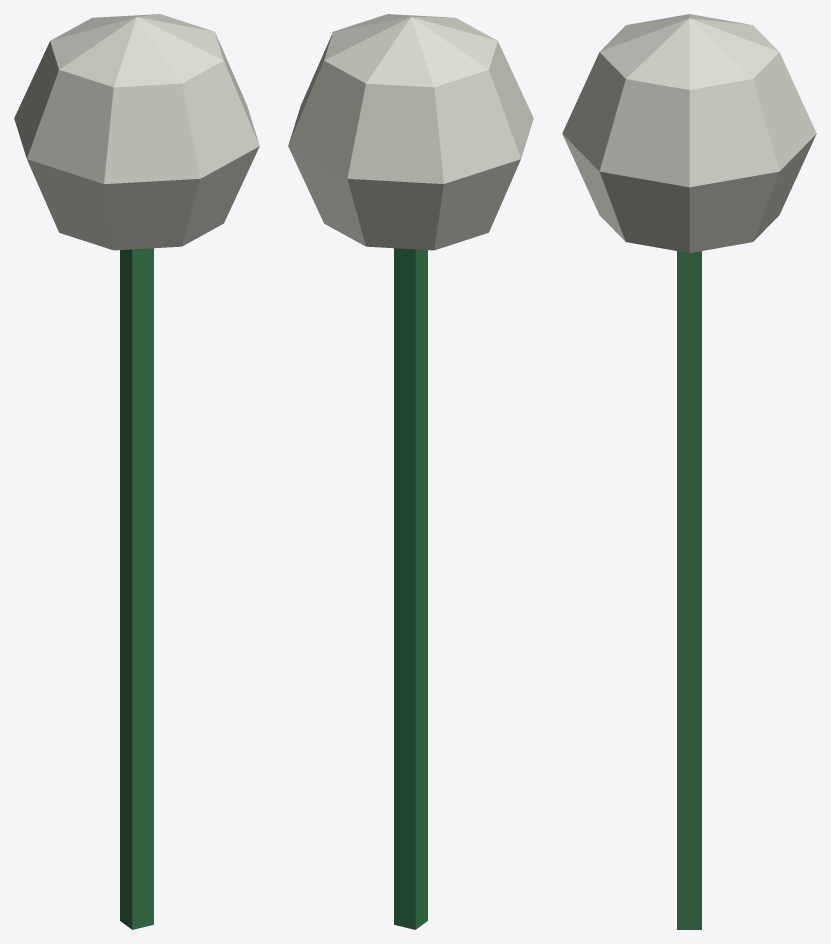
File: dandelion_tall.fbx
3 renders of one model, left to right at view 1: azimuth 30°, elevation 25°; view 2: azimuth 150°, elevation 25°; view 3: azimuth 270°, elevation 25°, orthographic.
Visible parts, largest first — view 1: pCube3; view 2: pCube3; view 3: pCube3.
Boxes of the visible parts, x1,y1,x2,y2 form: pCube3: (14, 14, 259, 929); pCube3: (288, 14, 533, 929); pCube3: (562, 14, 816, 929).
Bounding box in the file's own units: 1.52 × 5.97 × 1.52.
